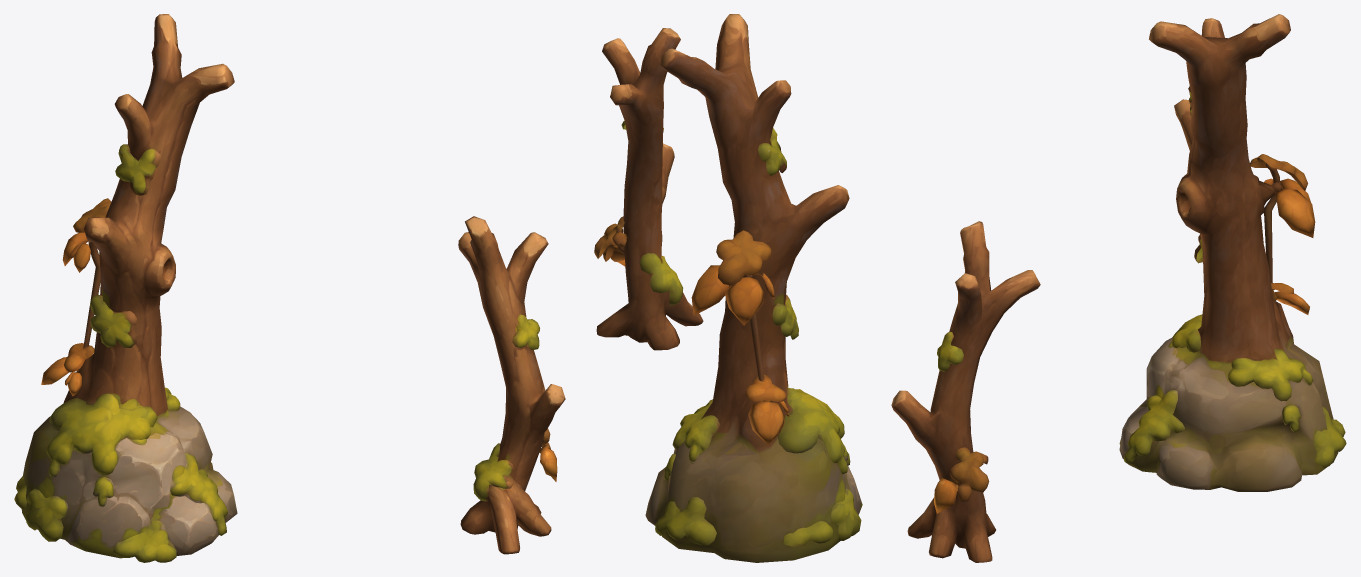
File: telarana_base.glb
3 renders of one model, left to right at view 1: azimuth 30°, elevation 25°; view 2: azimuth 150°, elevation 25°; view 3: azimuth 270°, elevation 25°, orthographic.
Visible parts, largest first — view 1: tripo_node_b039bd44-87f6-465f-8239-f8d14e5b047b; view 2: tripo_node_b039bd44-87f6-465f-8239-f8d14e5b047b; view 3: tripo_node_b039bd44-87f6-465f-8239-f8d14e5b047b.
Part boxes in pixels (<box>): tripo_node_b039bd44-87f6-465f-8239-f8d14e5b047b: <box>14,14,565,562</box>; tripo_node_b039bd44-87f6-465f-8239-f8d14e5b047b: <box>594,14,862,562</box>; tripo_node_b039bd44-87f6-465f-8239-f8d14e5b047b: <box>891,14,1346,562</box>.
Size of the model in its own units: 0.8496 by 0.998 by 0.8809.
1 material, 1 textured.
